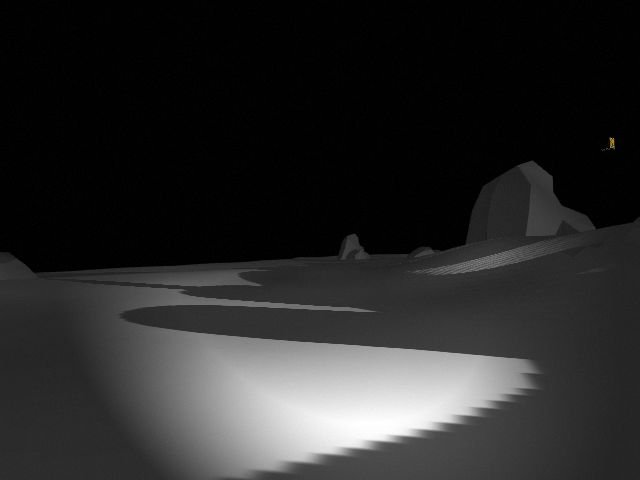cubesat: (599, 135, 617, 153)
